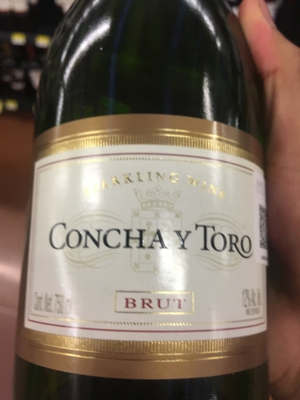brut: (17, 16, 269, 400)
